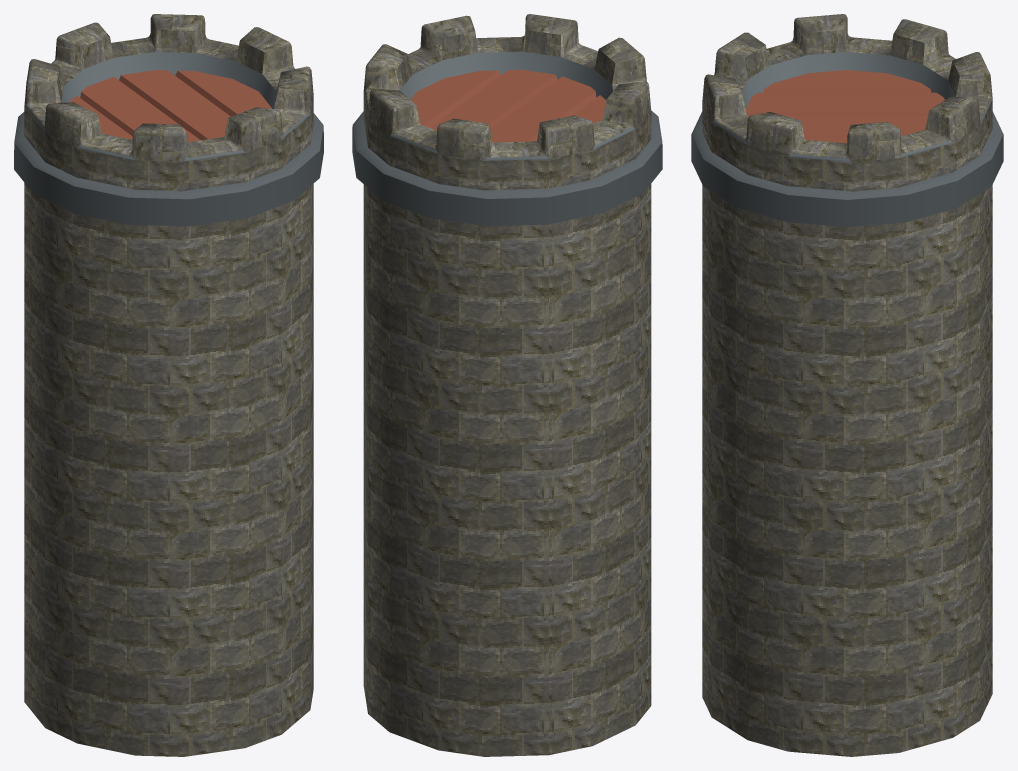
File: tour1.glb
3 renders of one model, left to right at view 1: azimuth 30°, elevation 25°; view 2: azimuth 150°, elevation 25°; view 3: azimuth 270°, elevation 25°, orthographic.
Visible parts, largest first — view 1: watchtower; view 2: watchtower; view 3: watchtower.
Part boxes in pixels (box(x1,y1,x2,y2)): watchtower: box(14, 14, 323, 756); watchtower: box(352, 14, 662, 756); watchtower: box(691, 14, 1003, 756).
Bounding box in the file's own units: 1.51 × 3.33 × 1.51.
Materials: 4 (1 with a texture image).
